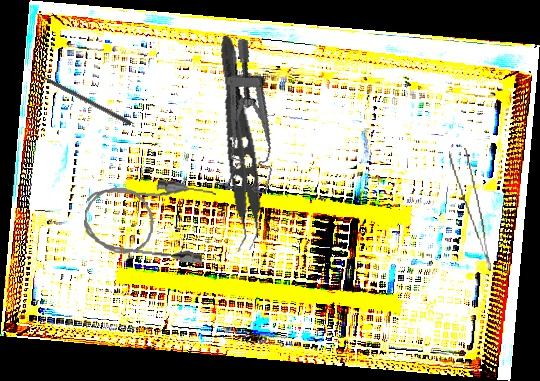Cannula: (81, 172, 217, 265)
Pusher: (27, 66, 133, 126)
Speculum: (203, 37, 300, 198)
Tissue Forceps: (200, 34, 271, 253), (448, 146, 492, 275)
